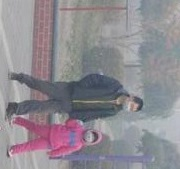person: (6, 69, 145, 123), (4, 115, 102, 159)
